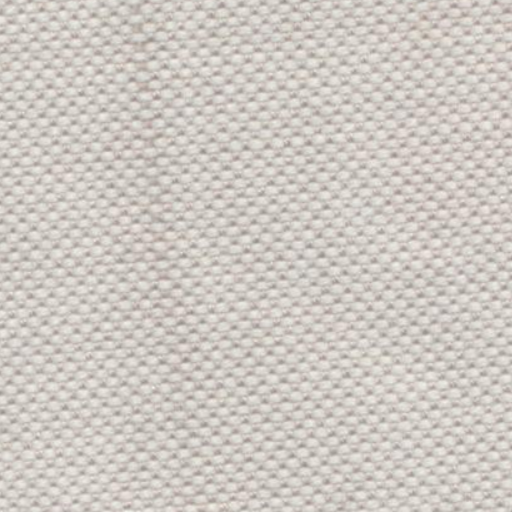TuoSha: (112, 6, 233, 496)
